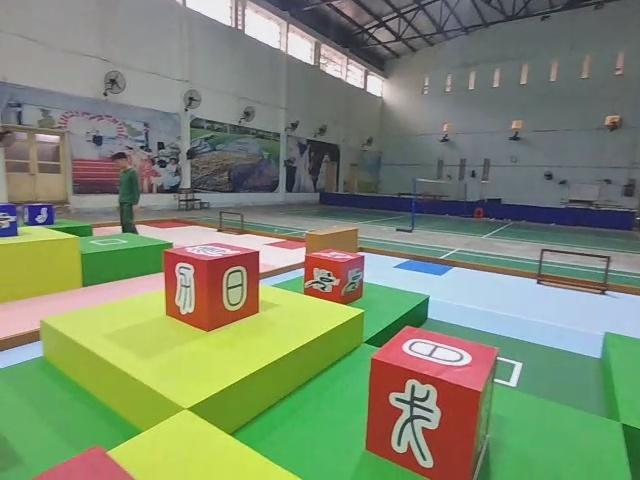R1: (301, 245, 367, 304)
R2 Fake: (363, 322, 502, 480), (160, 240, 263, 334)
